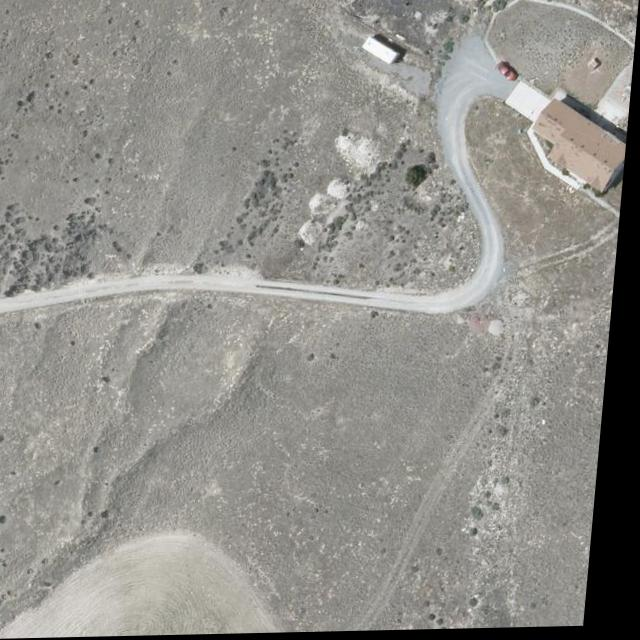vehicle: (495, 64, 522, 84)
